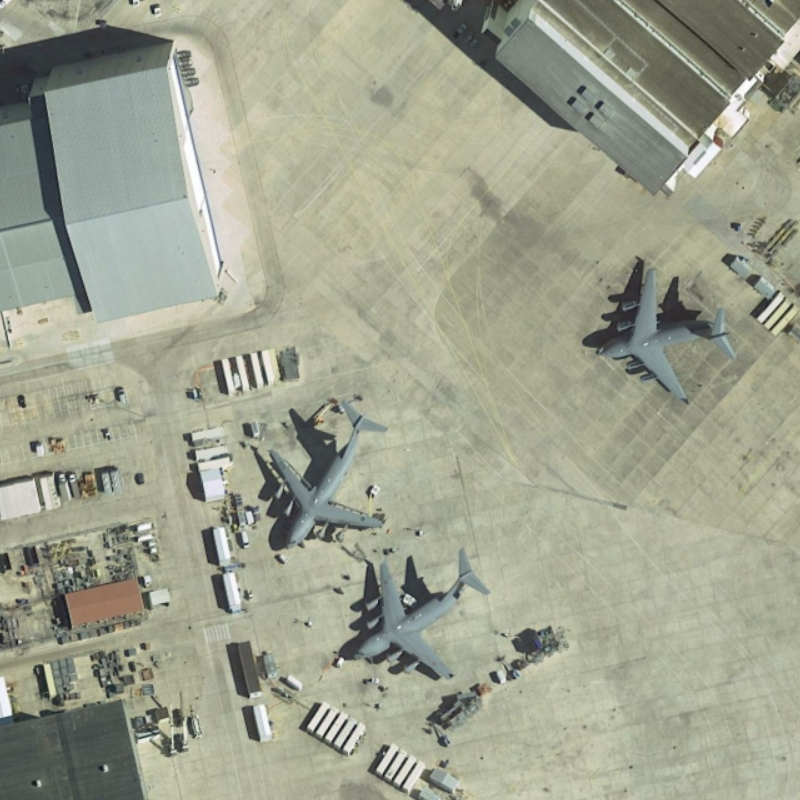A3: (591, 262, 744, 404), (345, 546, 497, 683), (265, 393, 395, 551)
